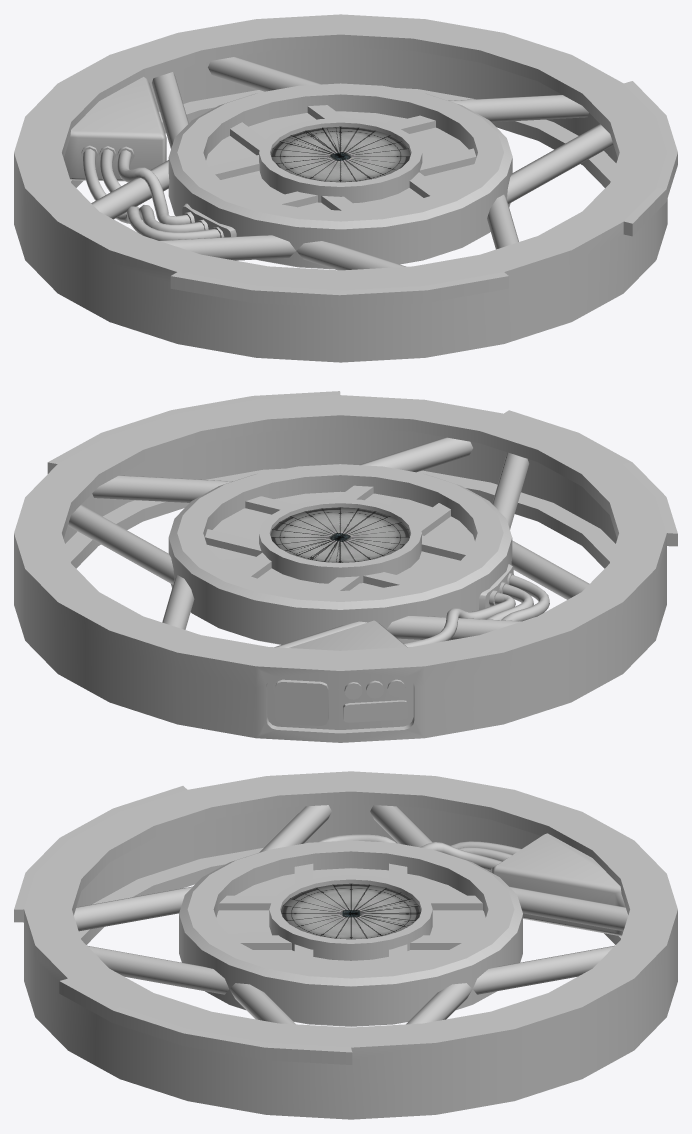
File: Apollo_AARDB_ControlBlock.dae
3 renders of one model, top to bottom at view 1: azimuth 30°, elevation 25°; view 2: azimuth 150°, elevation 25°; view 3: azimuth 270°, elevation 25°, orthographic.
Parts seen in each view (by area): view 1: AARDVK_ControlBlockMesh, polySurface75, pCube52, polySurface77, pCylinder111_ncl1_7, pCylinder111_ncl1_6, pCylinder111_ncl1_2, pCylinder111_ncl1_5, pCylinder111_ncl1_1, extrudedSurface5, pCylinder111_ncl1_3, pCylinder111_ncl1_4 (+8 smaller); view 2: AARDVK_ControlBlockMesh, polySurface75, polySurface77, pCylinder111_ncl1_6, pCylinder111_ncl1_7, pCube49, pCylinder111, pCylinder111_ncl1_2, pCylinder111_ncl1_3, pCube52, pCylinder111_ncl1_1, extrudedSurface7 (+9 smaller); view 3: AARDVK_ControlBlockMesh, polySurface75, polySurface77, pCube52, pCylinder111, pCylinder111_ncl1_5, pCylinder111_ncl1_1, pCylinder111_ncl1_4, pCylinder111_ncl1_2, pCylinder111_ncl1_3, pCylinder111_ncl1_6, pCylinder111_ncl1_7 (+6 smaller).
Part boxes in pixels (bbox=[...]): AARDVK_ControlBlockMesh: bbox=[14, 14, 677, 362]; polySurface75: bbox=[168, 83, 512, 269]; pCube52: bbox=[63, 77, 166, 181]; polySurface77: bbox=[270, 126, 410, 182]; pCylinder111_ncl1_7: bbox=[507, 124, 613, 203]; pCylinder111_ncl1_6: bbox=[448, 95, 588, 122]; pCylinder111_ncl1_2: bbox=[159, 235, 295, 260]; pCylinder111_ncl1_5: bbox=[208, 56, 321, 91]; pCylinder111_ncl1_1: bbox=[296, 241, 405, 270]; extrudedSurface5: bbox=[83, 149, 220, 240]; pCylinder111_ncl1_3: bbox=[91, 160, 169, 219]; pCylinder111_ncl1_4: bbox=[152, 72, 188, 148]; AARDVK_ControlBlockMesh: bbox=[14, 391, 677, 742]; polySurface75: bbox=[168, 464, 512, 644]; polySurface77: bbox=[270, 507, 410, 562]; pCylinder111_ncl1_6: bbox=[68, 504, 174, 584]; pCylinder111_ncl1_7: bbox=[92, 475, 232, 502]; pCube49: bbox=[275, 679, 328, 725]; pCylinder111: bbox=[359, 437, 472, 472]; pCylinder111_ncl1_2: bbox=[511, 540, 589, 599]; pCylinder111_ncl1_3: bbox=[386, 616, 521, 640]; pCube52: bbox=[289, 620, 407, 650]; pCylinder111_ncl1_1: bbox=[492, 452, 529, 529]; extrudedSurface7: bbox=[404, 592, 515, 646]; AARDVK_ControlBlockMesh: bbox=[14, 771, 677, 1119]; polySurface75: bbox=[179, 840, 522, 1026]; polySurface77: bbox=[281, 883, 421, 939]; pCube52: bbox=[491, 833, 625, 936]; pCylinder111: bbox=[87, 945, 228, 994]; pCylinder111_ncl1_5: bbox=[473, 945, 614, 994]; pCylinder111_ncl1_1: bbox=[74, 886, 192, 931]; pCylinder111_ncl1_4: bbox=[509, 886, 628, 931]; pCylinder111_ncl1_2: bbox=[259, 805, 331, 852]; pCylinder111_ncl1_3: bbox=[370, 805, 432, 847]; pCylinder111_ncl1_6: bbox=[406, 983, 472, 1024]; pCylinder111_ncl1_7: bbox=[229, 983, 295, 1024].
Size of what is drawn, in the model's own units: 2.54 by 0.3038 by 2.54.
